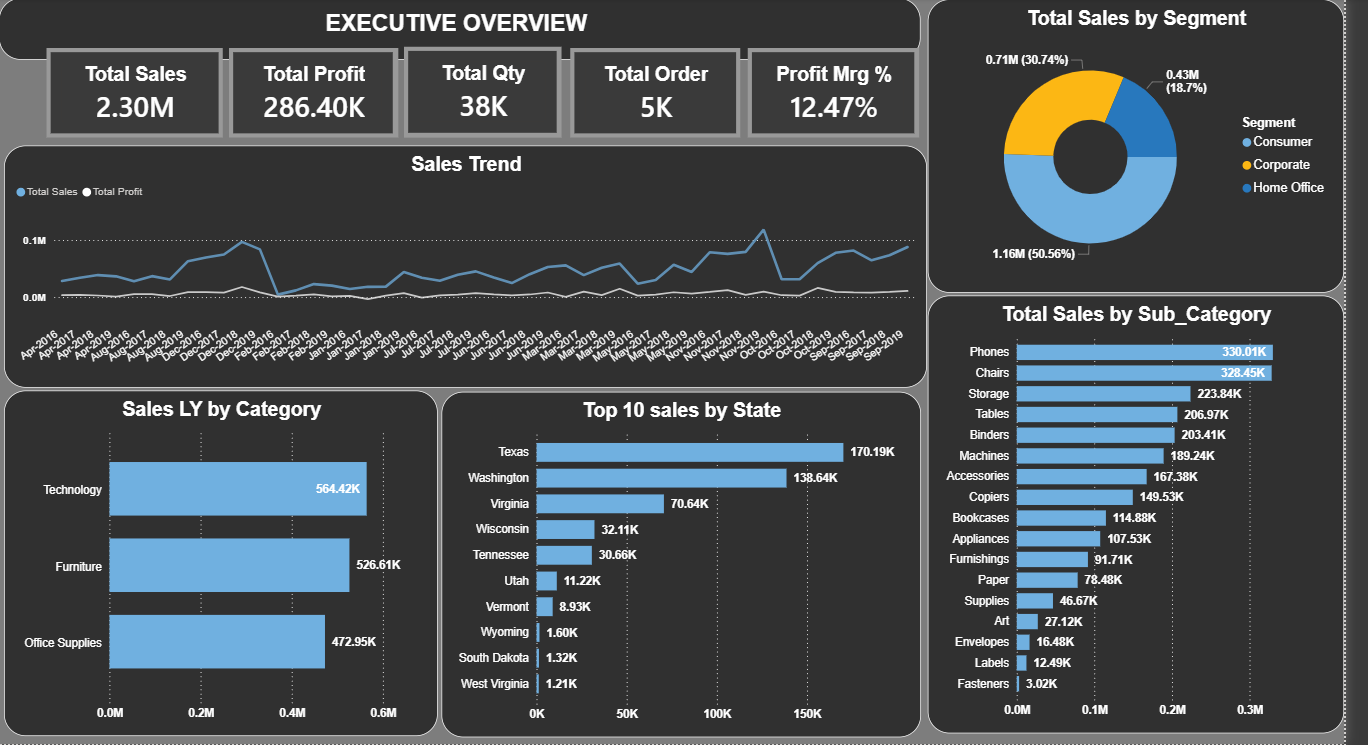

The page's visual inventory and layout, read from the dashboard file:
{"tool":"powerbi","page":{"name":"Executive overview","canvas":[1550,860],"ordinal":0},"visuals":[{"type":"textbox","box":[0,0,1062.4,70.9],"z":0},{"type":"lineChart","title":"Sales Trend","fields":{"Y":["superstore_db superstore.Total Sales","superstore_db superstore.Total Profit"],"Category":["DateTable.Month Year"]},"box":[5.8,170.1,1064.4,279.2],"z":1000},{"type":"barChart","fields":{"Y":["superstore_db superstore.Sales LY"],"Category":["superstore_db superstore.Category"]},"box":[5.8,452.2,500.2,398.4],"z":2000},{"type":"barChart","fields":{"Category":["superstore_db superstore.Sub_Category"],"Y":["superstore_db superstore.Total Sales"]},"box":[1070.2,343.2,479.8,504.5],"z":3000},{"type":"donutChart","fields":{"Y":["superstore_db superstore.Total Sales"],"Category":["superstore_db superstore.Segment"]},"box":[1070.2,1.5,479.8,338.8],"z":4000},{"type":"barChart","title":"Top 10 sales by State","fields":{"Category":["superstore_db superstore.State"],"Y":["superstore_db superstore.Total Sales"]},"box":[510.4,453.7,552.5,398.4],"z":5000},{"type":"cardVisual","fields":{"Data":["superstore_db superstore.Total Sales"]},"box":[55.3,58.2,203.6,103.2],"z":6000},{"type":"cardVisual","fields":{"Data":["superstore_db superstore.Total Profit"]},"box":[264.6,58.2,194.8,103.2],"z":7000},{"type":"cardVisual","fields":{"Data":["superstore_db superstore.Total Order"]},"box":[658.7,58.2,196.3,103.2],"z":8000},{"type":"cardVisual","fields":{"Data":["superstore_db superstore.Total Qty"]},"box":[466.7,56.7,181.8,104.7],"z":9000},{"type":"cardVisual","fields":{"Data":["superstore_db superstore.Profit Margin %"]},"box":[863.7,58.2,197.7,103.2],"z":10000}]}

Visuals, with their boxes in screenshot pixels (x1, y1, x2, y2), scaled from the page's 1550x860 canvas onto the 1368x745 screenshot:
textbox: [x1=0, y1=0, x2=938, y2=61]
"Sales Trend" lineChart: [x1=5, y1=147, x2=945, y2=389]
barChart - superstore_db superstore.Sales LY x superstore_db superstore.Category: [x1=5, y1=392, x2=447, y2=737]
barChart - superstore_db superstore.Sub_Category x superstore_db superstore.Total Sales: [x1=945, y1=297, x2=1367, y2=734]
donutChart - superstore_db superstore.Total Sales x superstore_db superstore.Segment: [x1=945, y1=1, x2=1367, y2=295]
"Top 10 sales by State" barChart: [x1=450, y1=393, x2=938, y2=738]
cardVisual - superstore_db superstore.Total Sales: [x1=49, y1=50, x2=229, y2=140]
cardVisual - superstore_db superstore.Total Profit: [x1=234, y1=50, x2=405, y2=140]
cardVisual - superstore_db superstore.Total Order: [x1=581, y1=50, x2=755, y2=140]
cardVisual - superstore_db superstore.Total Qty: [x1=412, y1=49, x2=572, y2=140]
cardVisual - superstore_db superstore.Profit Margin %: [x1=762, y1=50, x2=937, y2=140]
